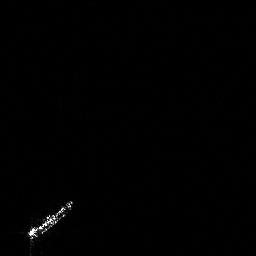ship: (21, 195, 79, 246)
